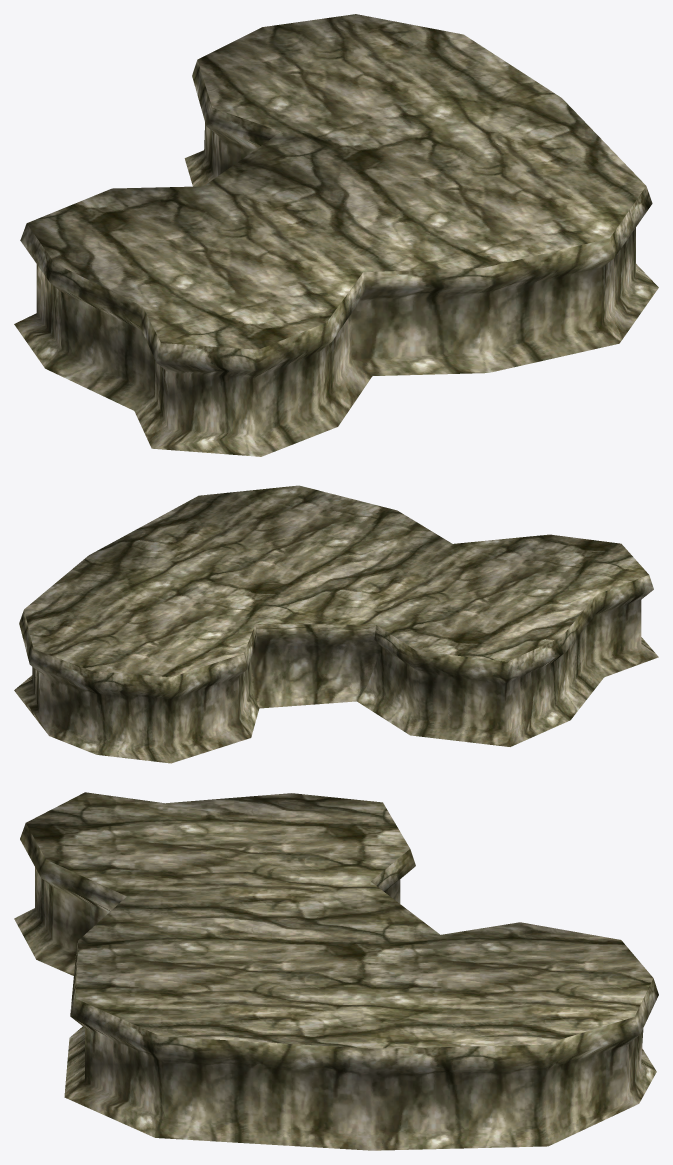
The model's file is CB_NEWPLAYSURFACE_CB_PLAYSURFACE130.fbx.
3 views of the same model, one above another, from view 1: azimuth 30°, elevation 25°; view 2: azimuth 150°, elevation 25°; view 3: azimuth 270°, elevation 25° (orthographic). The views are drawn at different scales.
Parts seen in each view (by area): view 1: CB_NEWPLAYSURFACE_CB_PLAYSURFACE130; view 2: CB_NEWPLAYSURFACE_CB_PLAYSURFACE130; view 3: CB_NEWPLAYSURFACE_CB_PLAYSURFACE130.
Boxes of the visible parts, x1,y1,x2,y2 form: CB_NEWPLAYSURFACE_CB_PLAYSURFACE130: [14, 14, 658, 456]; CB_NEWPLAYSURFACE_CB_PLAYSURFACE130: [14, 485, 658, 763]; CB_NEWPLAYSURFACE_CB_PLAYSURFACE130: [14, 792, 658, 1150].
Size of the model in its own units: 172583 by 29327 by 176581.
Materials: 2 (2 with a texture image).
